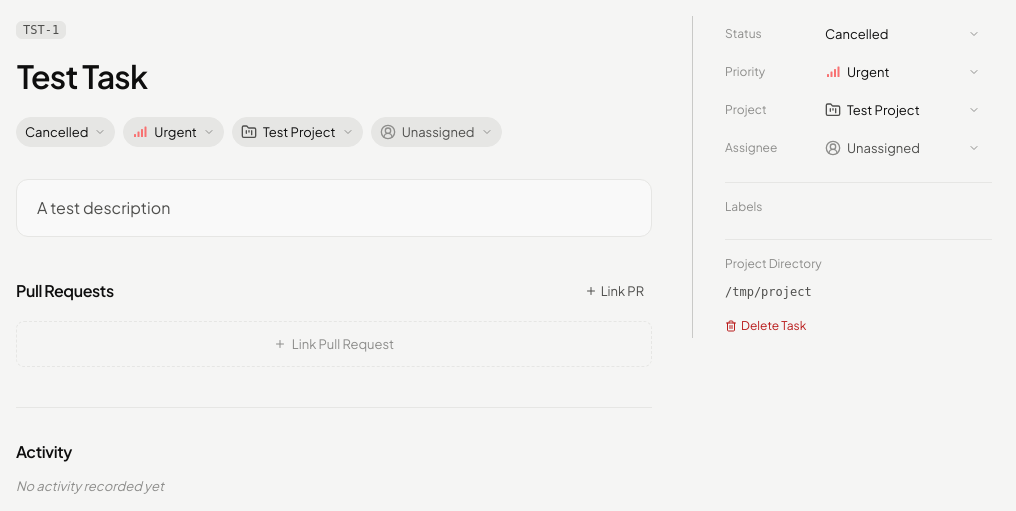
Test case: TaskDetail › task fields › renders assignee chip and lists workspace members in popover
Click the button with test id "assignee-select".
click(902, 148)  # box [819, 134, 986, 162]
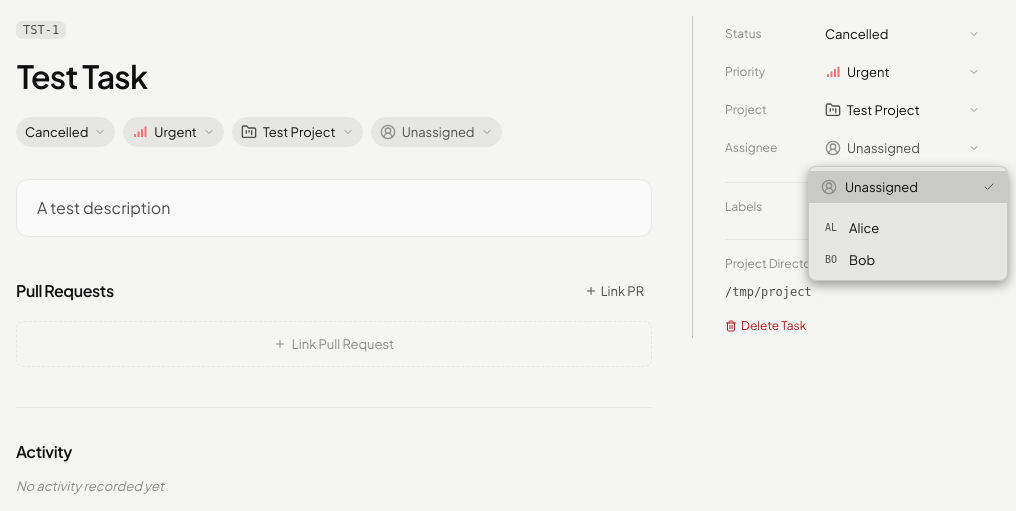
expect the 1st text "Unassigned" is shown: met, box [402, 122, 474, 142]
expect the text "Alice" is shown: met, box [849, 220, 879, 236]
expect the text "Bob" is shown: met, box [849, 252, 875, 268]
